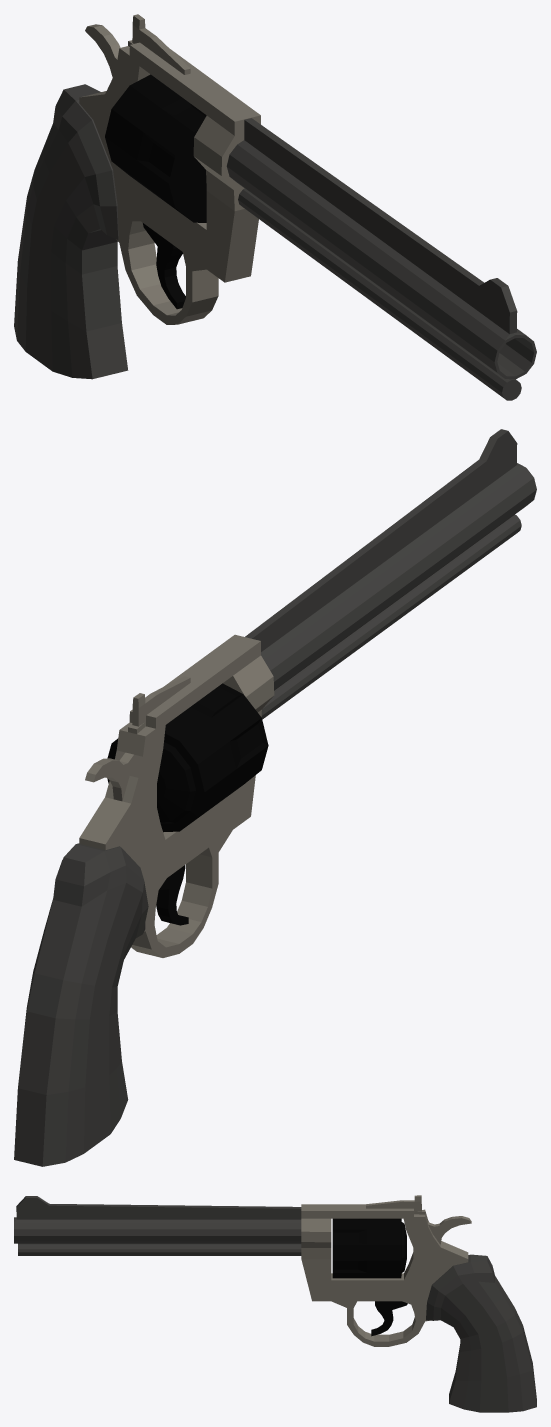
The model's file is 357 Magnum.fbx.
3 renders of one model, top to bottom at view 1: azimuth 30°, elevation 25°; view 2: azimuth 150°, elevation 25°; view 3: azimuth 270°, elevation 25°, orthographic. The views are drawn at different scales.
Parts seen in each view (by area): view 1: Magnum; view 2: Magnum; view 3: Magnum.
Boxes of the visible parts, <box> form: Magnum: <box>14,14,536,400</box>; Magnum: <box>14,429,536,1166</box>; Magnum: <box>14,1195,536,1412</box>.
Size of the model in its own units: 0.0418 by 0.1558 by 0.3536.
